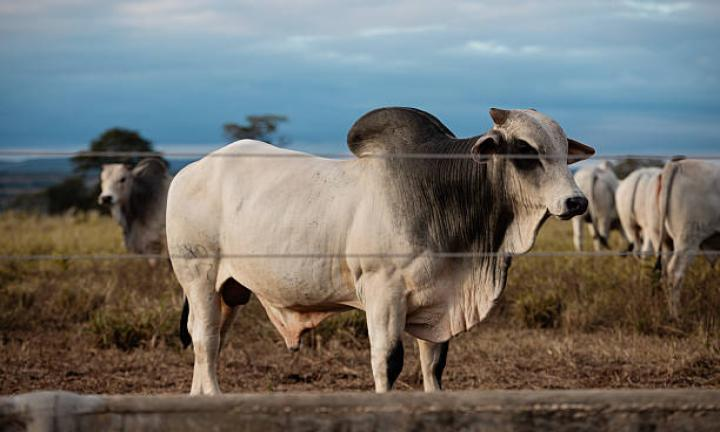Brahman: (166, 107, 593, 393)
